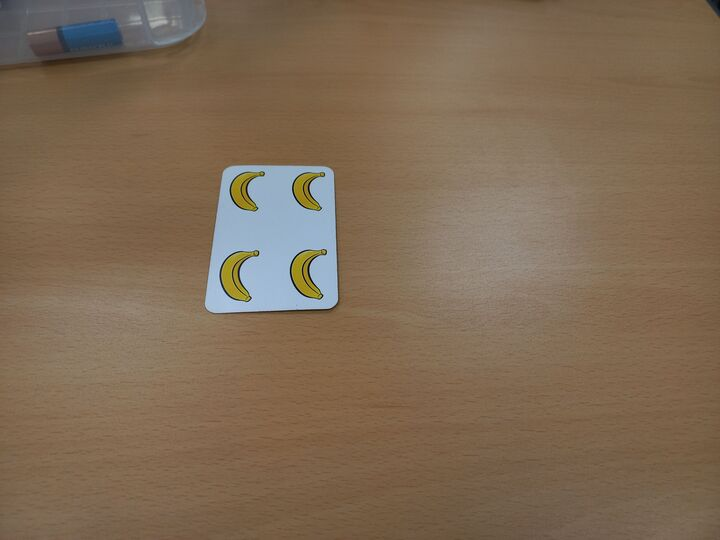banana4: (202, 162, 341, 316)
